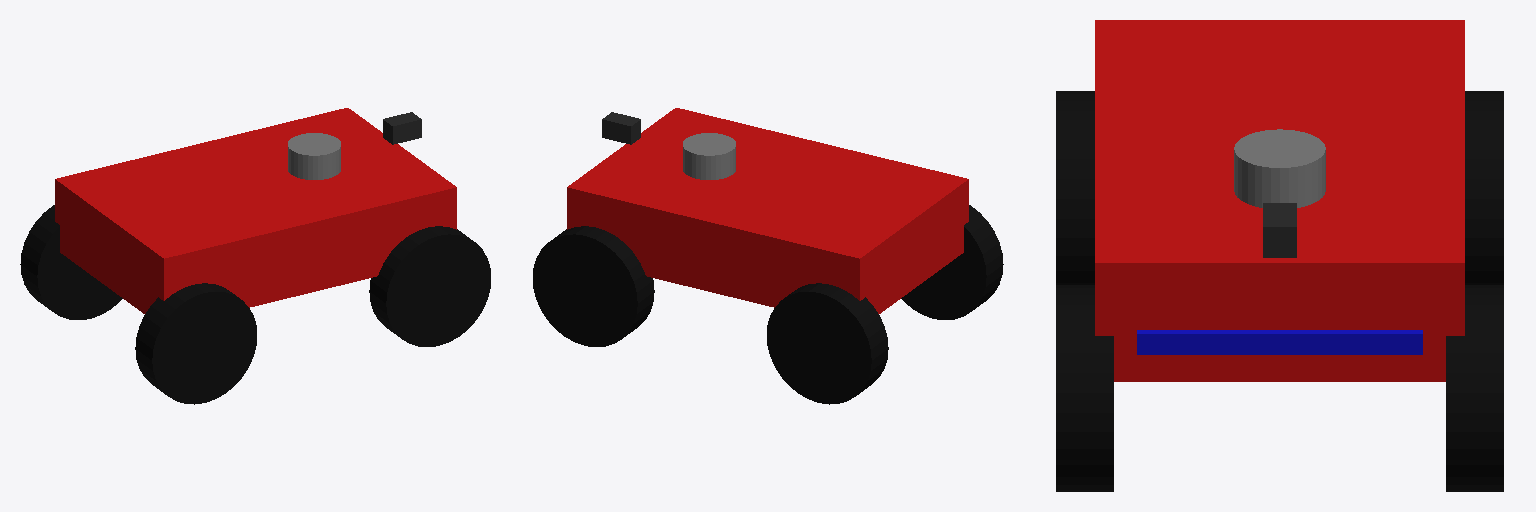
The robot description file, URDF, robot "pioneer_3at":
<?xml version="1.0"?>
<robot name="pioneer_3at">

  <!-- Base Link -->
  <link name="base_link">
    <visual>
      <origin xyz="0 0 0.177" rpy="0 0 0"/>
      <geometry>
        <box size="0.501 0.323 0.114"/>
      </geometry>
      <material name="pioneer_red">
        <color rgba="0.8 0.1 0.1 1.0"/>
      </material>
    </visual>
    <collision>
      <origin xyz="0 0 0.177" rpy="0 0 0"/>
      <geometry>
        <box size="0.501 0.323 0.114"/>
      </geometry>
    </collision>
    <inertial>
      <mass value="16.0"/>
      <origin xyz="0 0 0.177"/>
      <inertia ixx="0.3338" ixy="0.0" ixz="0.0" iyy="1.2835" iyz="0.0" izz="1.4165"/>
    </inertial>
  </link>

  <!-- Front Left Wheel -->
  <link name="front_left_wheel">
    <visual>
      <origin xyz="0 0 0" rpy="1.5708 0 0"/>
      <geometry>
        <cylinder radius="0.09" length="0.05"/>
      </geometry>
      <material name="wheel_black">
        <color rgba="0.1 0.1 0.1 1.0"/>
      </material>
    </visual>
    <collision>
      <origin xyz="0 0 0" rpy="1.5708 0 0"/>
      <geometry>
        <cylinder radius="0.09" length="0.05"/>
      </geometry>
    </collision>
    <inertial>
      <mass value="0.5"/>
      <origin xyz="0 0 0"/>
      <inertia ixx="0.01" ixy="0.0" ixz="0.0" iyy="0.005" iyz="0.0" izz="0.005"/>
    </inertial>
  </link>

  <!-- Front Right Wheel -->
  <link name="front_right_wheel">
    <visual>
      <origin xyz="0 0 0" rpy="1.5708 0 0"/>
      <geometry>
        <cylinder radius="0.09" length="0.05"/>
      </geometry>
      <material name="wheel_black">
        <color rgba="0.1 0.1 0.1 1.0"/>
      </material>
    </visual>
    <collision>
      <origin xyz="0 0 0" rpy="1.5708 0 0"/>
      <geometry>
        <cylinder radius="0.09" length="0.05"/>
      </geometry>
    </collision>
    <inertial>
      <mass value="0.5"/>
      <origin xyz="0 0 0"/>
      <inertia ixx="0.01" ixy="0.0" ixz="0.0" iyy="0.005" iyz="0.0" izz="0.005"/>
    </inertial>
  </link>

  <!-- Rear Left Wheel -->
  <link name="rear_left_wheel">
    <visual>
      <origin xyz="0 0 0" rpy="1.5708 0 0"/>
      <geometry>
        <cylinder radius="0.09" length="0.05"/>
      </geometry>
      <material name="wheel_black">
        <color rgba="0.1 0.1 0.1 1.0"/>
      </material>
    </visual>
    <collision>
      <origin xyz="0 0 0" rpy="1.5708 0 0"/>
      <geometry>
        <cylinder radius="0.09" length="0.05"/>
      </geometry>
    </collision>
    <inertial>
      <mass value="0.5"/>
      <origin xyz="0 0 0"/>
      <inertia ixx="0.01" ixy="0.0" ixz="0.0" iyy="0.005" iyz="0.0" izz="0.005"/>
    </inertial>
  </link>

  <!-- Rear Right Wheel -->
  <link name="rear_right_wheel">
    <visual>
      <origin xyz="0 0 0" rpy="1.5708 0 0"/>
      <geometry>
        <cylinder radius="0.09" length="0.05"/>
      </geometry>
      <material name="wheel_black">
        <color rgba="0.1 0.1 0.1 1.0"/>
      </material>
    </visual>
    <collision>
      <origin xyz="0 0 0" rpy="1.5708 0 0"/>
      <geometry>
        <cylinder radius="0.09" length="0.05"/>
      </geometry>
    </collision>
    <inertial>
      <mass value="0.5"/>
      <origin xyz="0 0 0"/>
      <inertia ixx="0.01" ixy="0.0" ixz="0.0" iyy="0.005" iyz="0.0" izz="0.005"/>
    </inertial>
  </link>

  <!-- Sonar Array (front) -->
  <link name="front_sonar_array">
    <visual>
      <origin xyz="0 0 0.01" rpy="0 0 0"/>
      <geometry>
        <box size="0.02 0.25 0.02"/>
      </geometry>
      <material name="sonar_blue">
        <color rgba="0.1 0.1 0.8 1.0"/>
      </material>
    </visual>
    <collision>
      <origin xyz="0 0 0.01" rpy="0 0 0"/>
      <geometry>
        <box size="0.02 0.25 0.02"/>
      </geometry>
    </collision>
    <inertial>
      <mass value="0.1"/>
      <origin xyz="0 0 0.01"/>
      <inertia ixx="0.0001" ixy="0.0" ixz="0.0" iyy="0.0001" iyz="0.0" izz="0.0001"/>
    </inertial>
  </link>

  <!-- Laser Scanner Mount -->
  <link name="laser_mount">
    <visual>
      <origin xyz="0 0 0.02" rpy="0 0 0"/>
      <geometry>
        <cylinder radius="0.04" length="0.04"/>
      </geometry>
      <material name="mount_gray">
        <color rgba="0.5 0.5 0.5 1.0"/>
      </material>
    </visual>
    <collision>
      <origin xyz="0 0 0.02" rpy="0 0 0"/>
      <geometry>
        <cylinder radius="0.04" length="0.04"/>
      </geometry>
    </collision>
    <inertial>
      <mass value="0.2"/>
      <origin xyz="0 0 0.02"/>
      <inertia ixx="0.001" ixy="0.0" ixz="0.0" iyy="0.001" iyz="0.0" izz="0.0005"/>
    </inertial>
  </link>

  <!-- Camera Mount -->
  <link name="camera_mount">
    <visual>
      <origin xyz="0 0 0.015" rpy="0 0 0"/>
      <geometry>
        <box size="0.05 0.03 0.03"/>
      </geometry>
      <material name="camera_black">
        <color rgba="0.2 0.2 0.2 1.0"/>
      </material>
    </visual>
    <collision>
      <origin xyz="0 0 0.015" rpy="0 0 0"/>
      <geometry>
        <box size="0.05 0.03 0.03"/>
      </geometry>
    </collision>
    <inertial>
      <mass value="0.15"/>
      <origin xyz="0 0 0.015"/>
      <inertia ixx="0.0001" ixy="0.0" ixz="0.0" iyy="0.0001" iyz="0.0" izz="0.0001"/>
    </inertial>
  </link>

  <!-- Wheel Joints -->
  <joint name="front_left_wheel_joint" type="continuous">
    <parent link="base_link"/>
    <child link="front_left_wheel"/>
    <origin xyz="0.2 0.17 0.09" rpy="0 0 0"/>
    <axis xyz="0 1 0"/>
  </joint>

  <joint name="front_right_wheel_joint" type="continuous">
    <parent link="base_link"/>
    <child link="front_right_wheel"/>
    <origin xyz="0.2 -0.17 0.09" rpy="0 0 0"/>
    <axis xyz="0 1 0"/>
  </joint>

  <joint name="rear_left_wheel_joint" type="continuous">
    <parent link="base_link"/>
    <child link="rear_left_wheel"/>
    <origin xyz="-0.2 0.17 0.09" rpy="0 0 0"/>
    <axis xyz="0 1 0"/>
  </joint>

  <joint name="rear_right_wheel_joint" type="continuous">
    <parent link="base_link"/>
    <child link="rear_right_wheel"/>
    <origin xyz="-0.2 -0.17 0.09" rpy="0 0 0"/>
    <axis xyz="0 1 0"/>
  </joint>

  <!-- Sensor Mounts -->
  <joint name="front_sonar_joint" type="fixed">
    <parent link="base_link"/>
    <child link="front_sonar_array"/>
    <origin xyz="0.25 0 0.15" rpy="0 0 0"/>
  </joint>

  <joint name="laser_mount_joint" type="fixed">
    <parent link="base_link"/>
    <child link="laser_mount"/>
    <origin xyz="0.1 0 0.234" rpy="0 0 0"/>
  </joint>

  <joint name="camera_mount_joint" type="fixed">
    <parent link="base_link"/>
    <child link="camera_mount"/>
    <origin xyz="0.25 0 0.25" rpy="0 0 0"/>
  </joint>

</robot>

--- Render facts (derived) ---
3 views of the same robot in one strip: view 1: azimuth 30°, elevation 25°; view 2: azimuth 150°, elevation 25°; view 3: azimuth 270°, elevation 25° (orthographic).
Robot: pioneer_3at — 8 links, 7 joints (4 continuous, 3 fixed); root link base_link; default pose: every joint at zero.
Links seen in each view (by area): view 1: base_link, rear_right_wheel, front_right_wheel, rear_left_wheel, laser_mount, camera_mount; view 2: base_link, rear_left_wheel, front_left_wheel, rear_right_wheel, laser_mount, camera_mount; view 3: base_link, front_left_wheel, front_right_wheel, rear_left_wheel, rear_right_wheel, front_sonar_array, laser_mount, camera_mount.
Link boxes in pixels (x1=…): base_link: x1=55, y1=108, x2=456, y2=313; rear_right_wheel: x1=135, y1=283, x2=256, y2=404; front_right_wheel: x1=369, y1=226, x2=490, y2=346; rear_left_wheel: x1=20, y1=205, x2=122, y2=319; laser_mount: x1=288, y1=133, x2=340, y2=179; camera_mount: x1=383, y1=112, x2=421, y2=144; base_link: x1=567, y1=108, x2=968, y2=313; rear_left_wheel: x1=767, y1=283, x2=888, y2=404; front_left_wheel: x1=533, y1=226, x2=654, y2=346; rear_right_wheel: x1=901, y1=205, x2=1003, y2=319; laser_mount: x1=683, y1=133, x2=735, y2=179; camera_mount: x1=602, y1=112, x2=640, y2=144; base_link: x1=1095, y1=20, x2=1464, y2=381; front_left_wheel: x1=1446, y1=285, x2=1503, y2=491; front_right_wheel: x1=1056, y1=285, x2=1113, y2=491; rear_left_wheel: x1=1465, y1=91, x2=1503, y2=284; rear_right_wheel: x1=1056, y1=91, x2=1094, y2=284; front_sonar_array: x1=1137, y1=330, x2=1422, y2=354; laser_mount: x1=1234, y1=129, x2=1325, y2=207; camera_mount: x1=1263, y1=203, x2=1296, y2=257.
Size in the robot's own frame: 0.58 by 0.39 by 0.28 metres.
Geometry: primitives only (box / cylinder / sphere), no mesh files.
